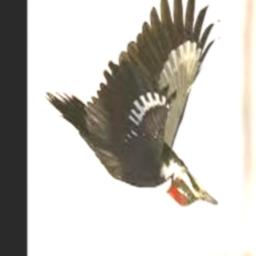Woodpecker: (45, 0, 222, 207)
